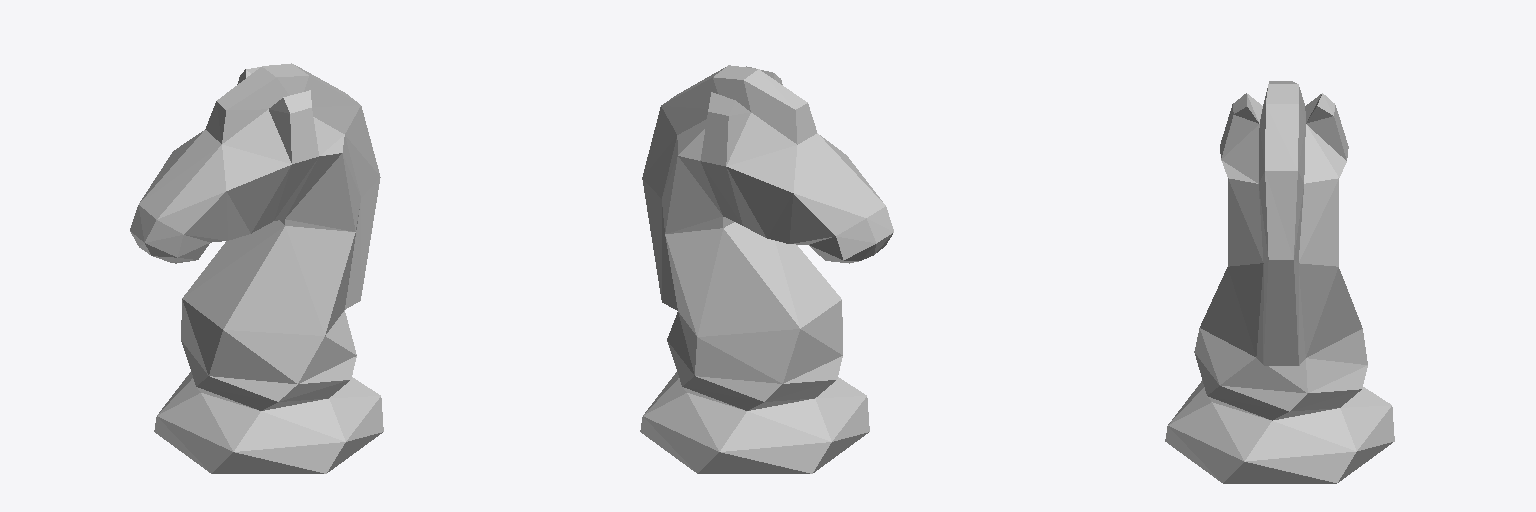
Rendered from knight.obj.
3 renders of one model, left to right at view 1: azimuth 30°, elevation 25°; view 2: azimuth 150°, elevation 25°; view 3: azimuth 270°, elevation 25°, orthographic.
Visible parts, largest first — view 1: Knight; view 2: Knight; view 3: Knight.
Boxes of the visible parts, x1=… form: Knight: x1=130, y1=63, x2=383, y2=473; Knight: x1=640, y1=65, x2=893, y2=473; Knight: x1=1165, y1=81, x2=1394, y2=483.
Size of the model in its own units: 3.01 by 4.34 by 2.52.